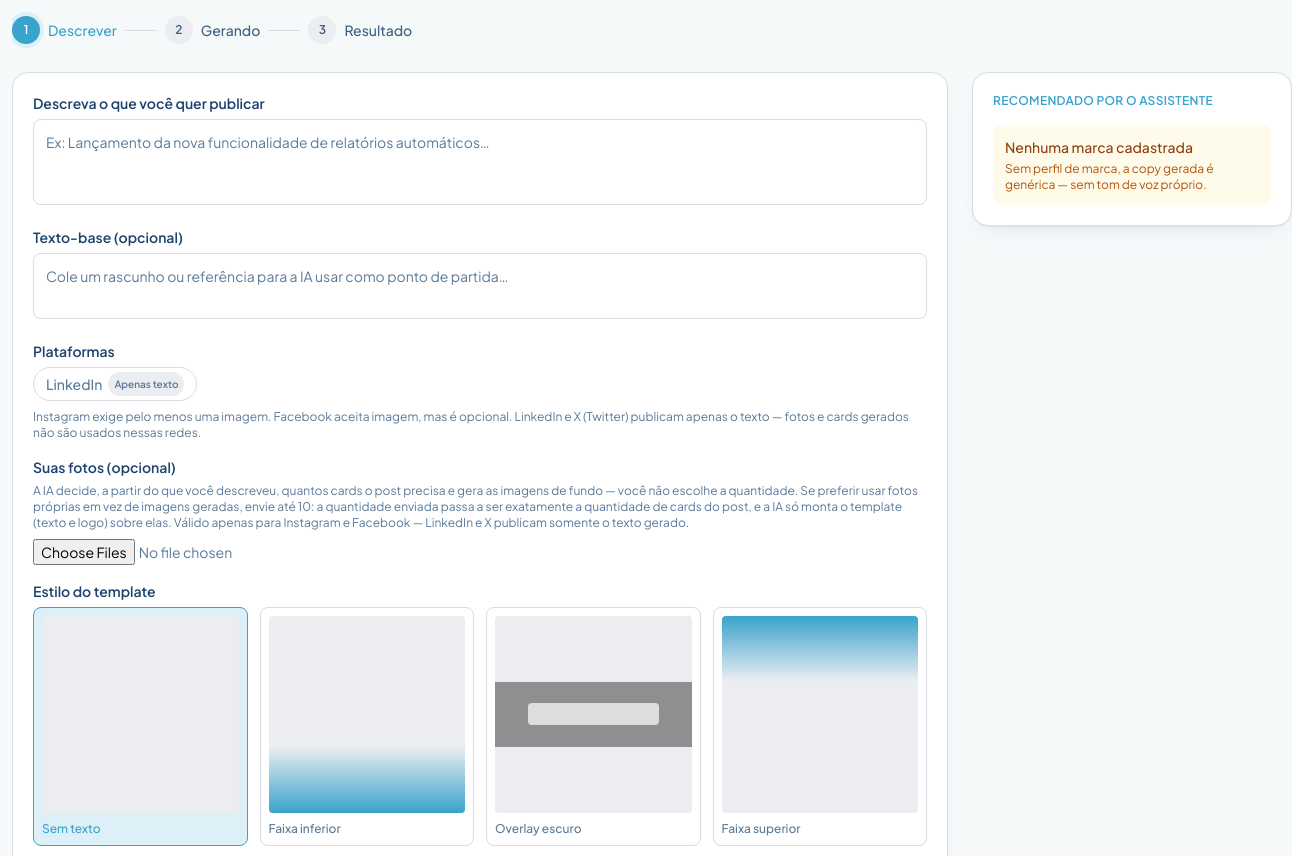
Scenario: GenerateContentPage › permite publicar o rascunho gerado a partir do resultado
Type "Lançamento X" into the text box with placeholder "Lançamento da nova funcionalidade".
click(480, 162); type("Lançamento X")  # box [33,119,927,205]
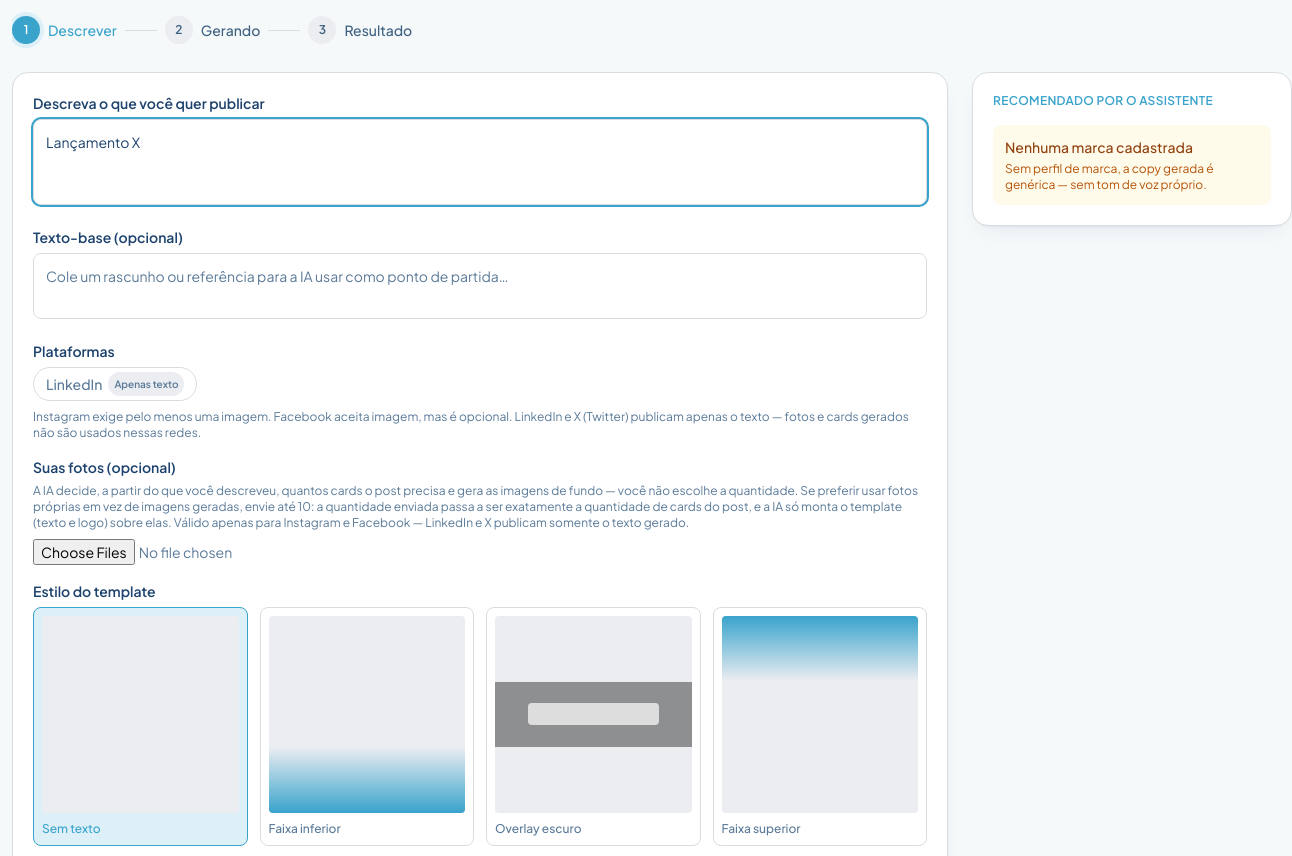
Click the button "LinkedIn Apenas texto".
click(115, 384)  # box [33,367,198,401]
(page scrolled)
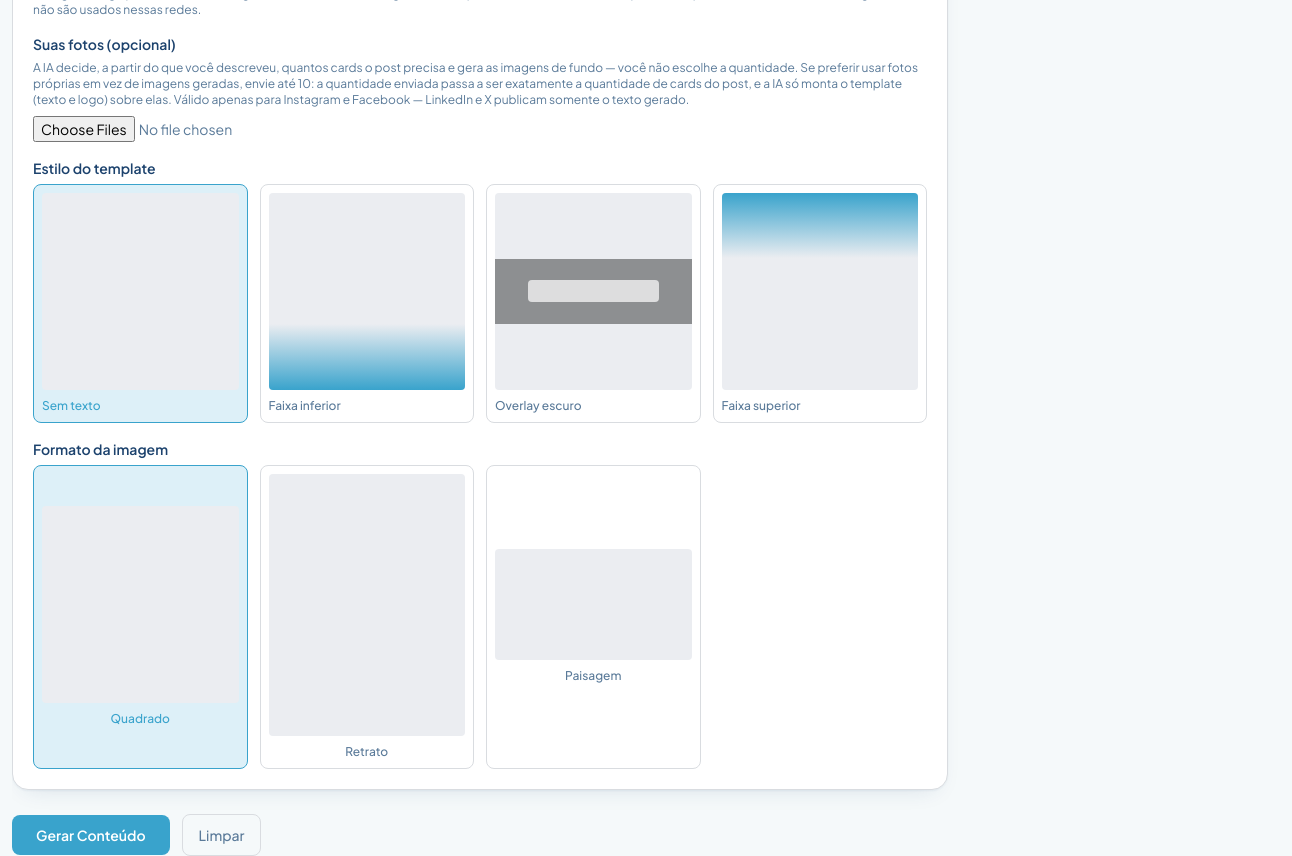
Click the button "Gerar Conteúdo".
click(91, 834)  # box [12,814,170,854]
(page scrolled)
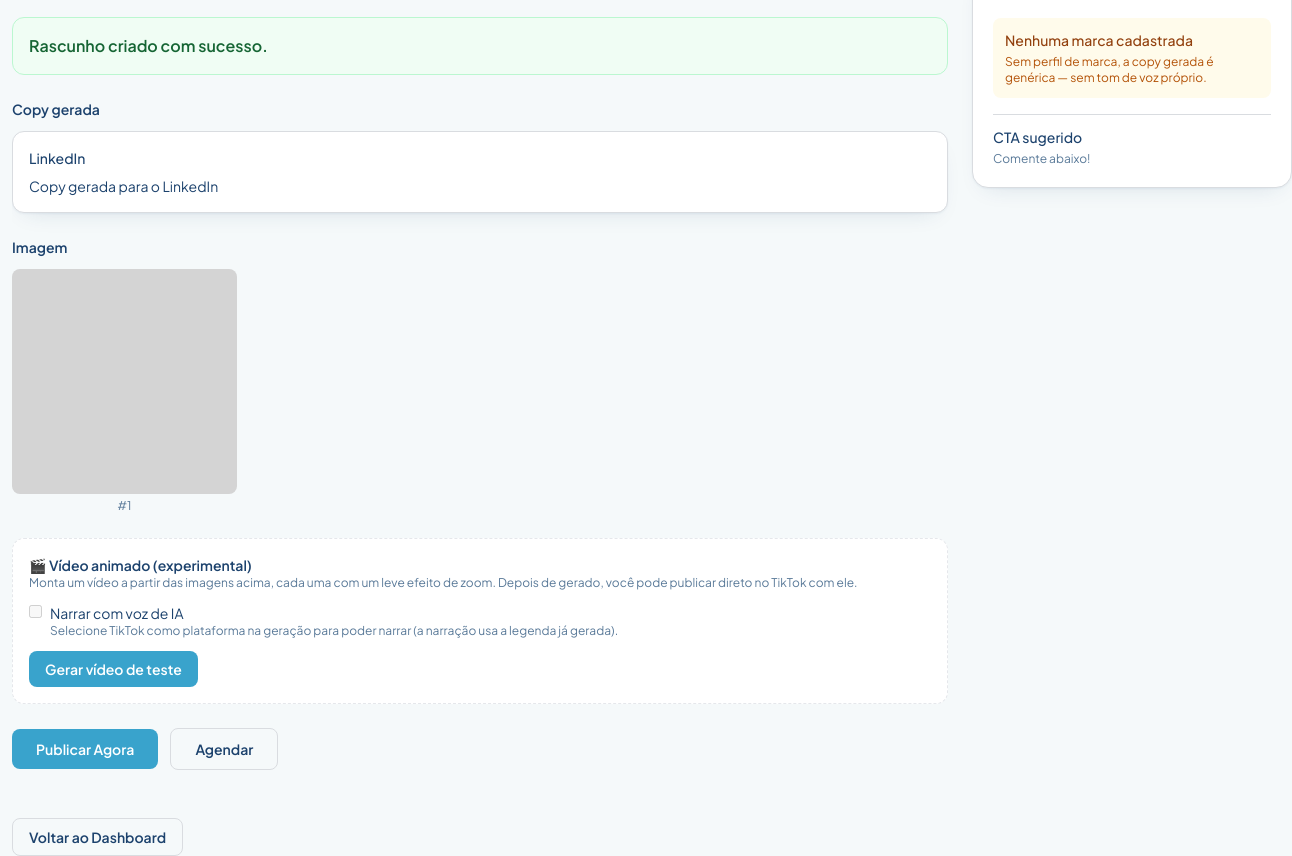
Click the button "Publicar Agora".
click(85, 749)  # box [12,729,158,769]
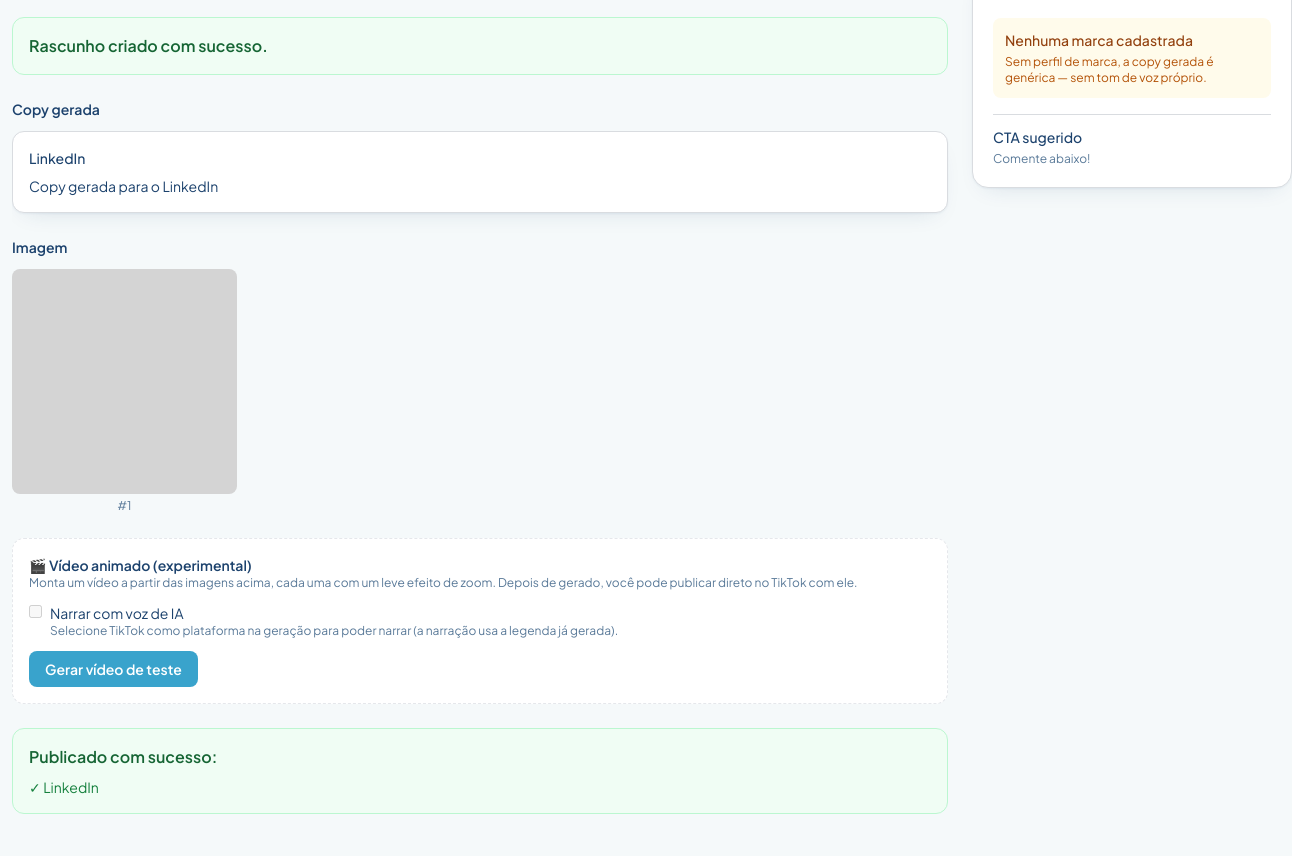
Check: the text "Publicado com sucesso:" is shown, box [29,746,217,767]
